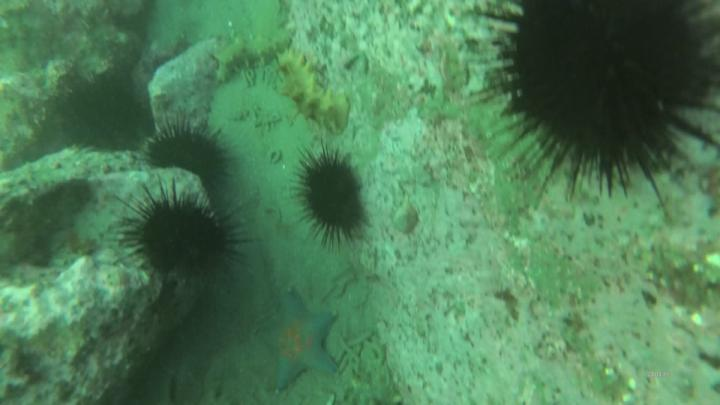echinus: (505, 4, 717, 184), (139, 197, 236, 278), (69, 81, 147, 152), (303, 160, 363, 239), (154, 132, 229, 179)
holothurian: (280, 52, 351, 132), (211, 34, 293, 83)
starfish: (264, 290, 341, 392)
